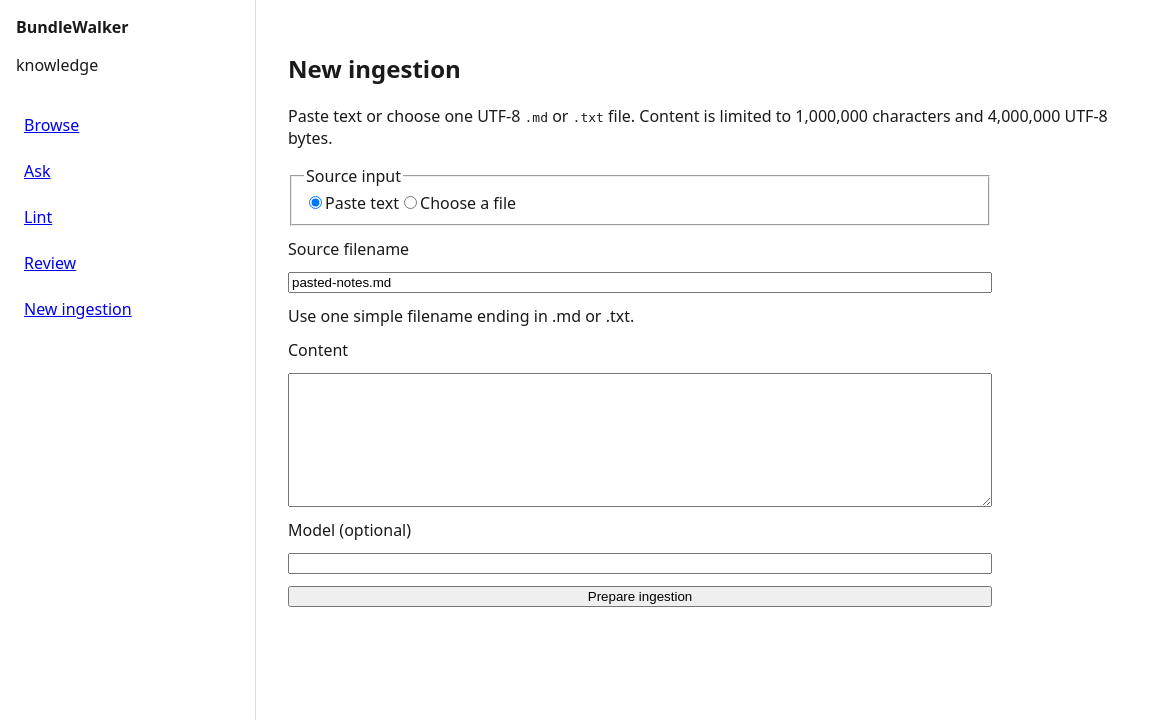
moves focus to an announced validation error
Replace the text in the field labelled "Source filename" with "../notes.md" at (640, 283), box [288, 272, 992, 293]
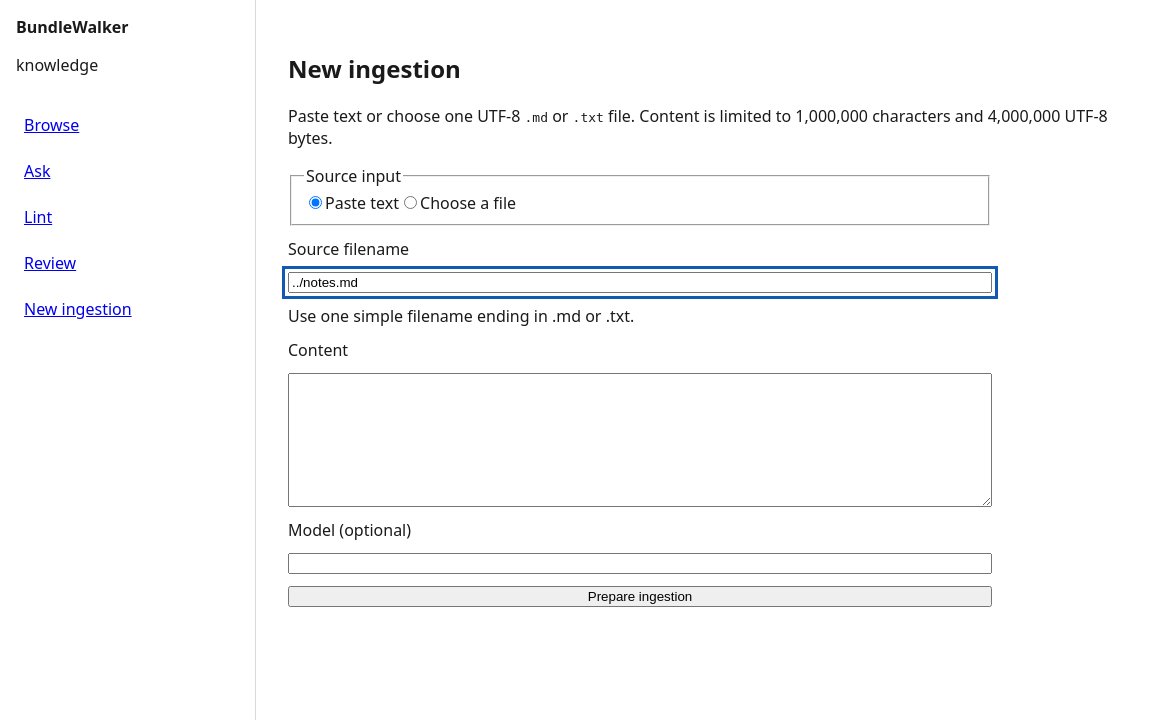
Type "Evidence." into the text box labelled "Content".
click(640, 440); type("Evidence.")  # box [288, 373, 992, 507]
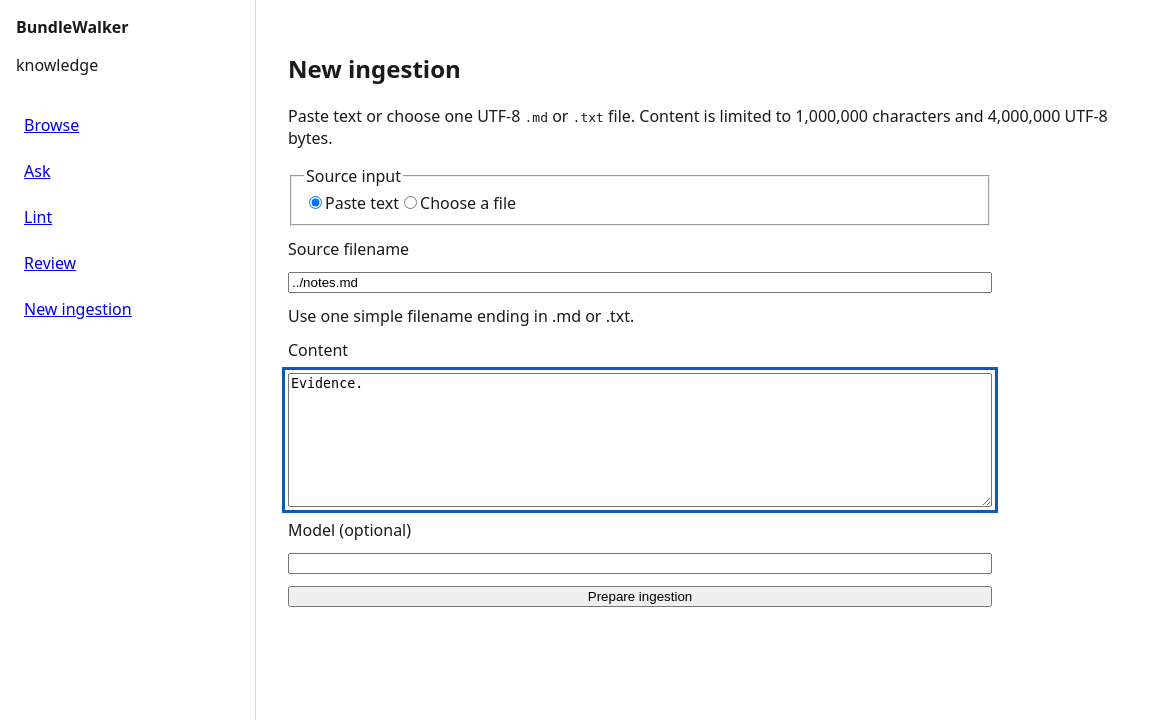
Click the button "Prepare ingestion".
click(640, 597)  # box [288, 586, 992, 607]
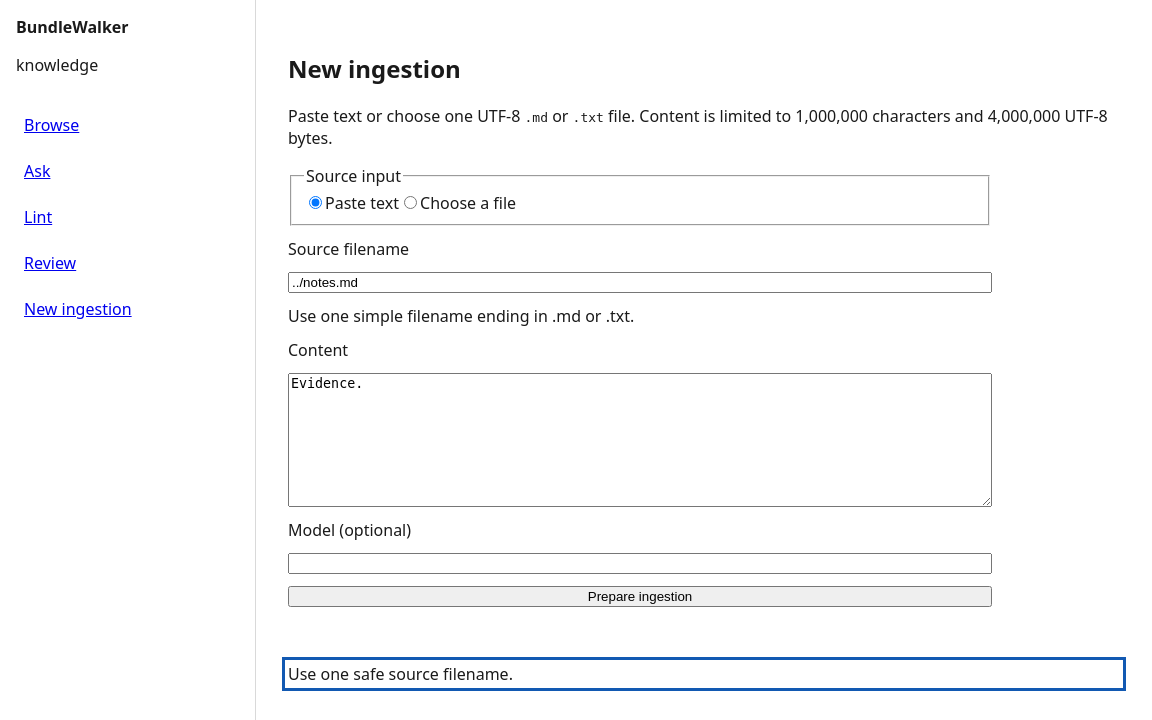
Expected: the message "Use one safe source filename." is shown, [288, 663, 513, 685]
